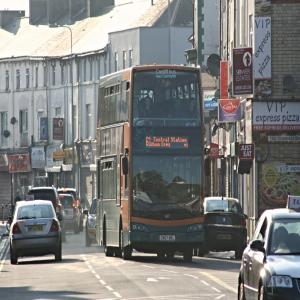Vehicle-registration-plate: (162, 236, 176, 243), (218, 235, 233, 240)
